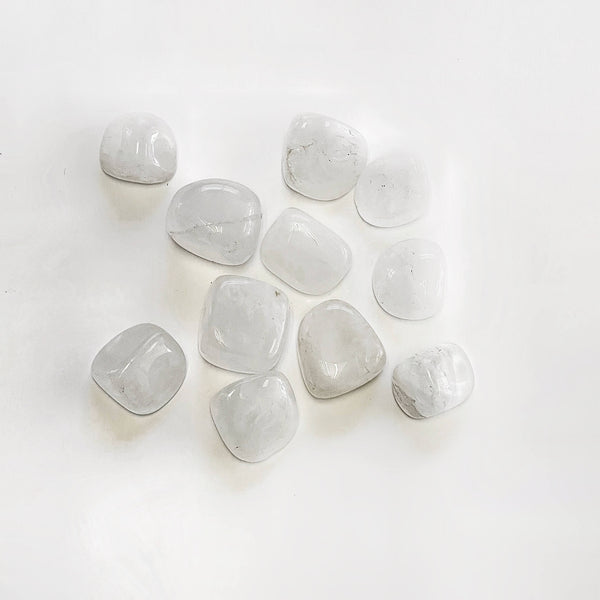Clear_Quartz: (192, 274, 292, 377), (89, 321, 193, 420), (294, 298, 387, 404), (209, 370, 307, 467), (165, 177, 265, 270), (280, 109, 370, 207), (391, 340, 479, 423), (372, 236, 452, 325), (98, 112, 181, 190)
